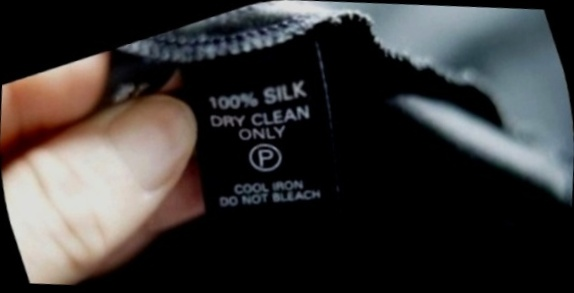dry_clean_any_solvent_except_trichloroethylene: (237, 128, 296, 185)
